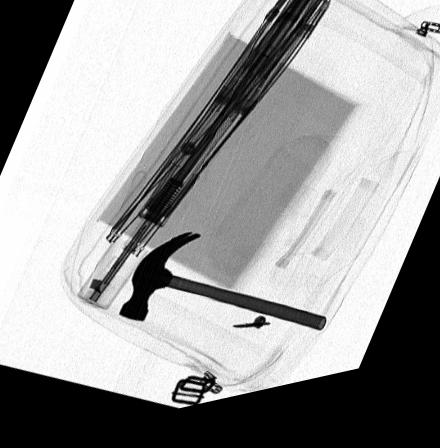Hammer: (117, 239, 326, 345)
